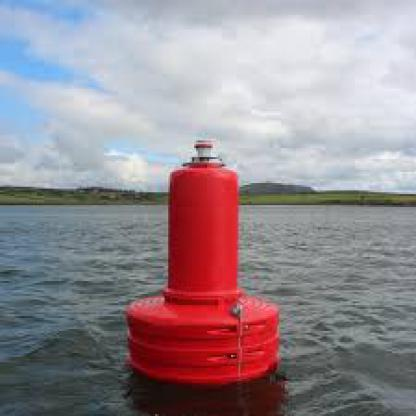buoy: (114, 131, 288, 392)
